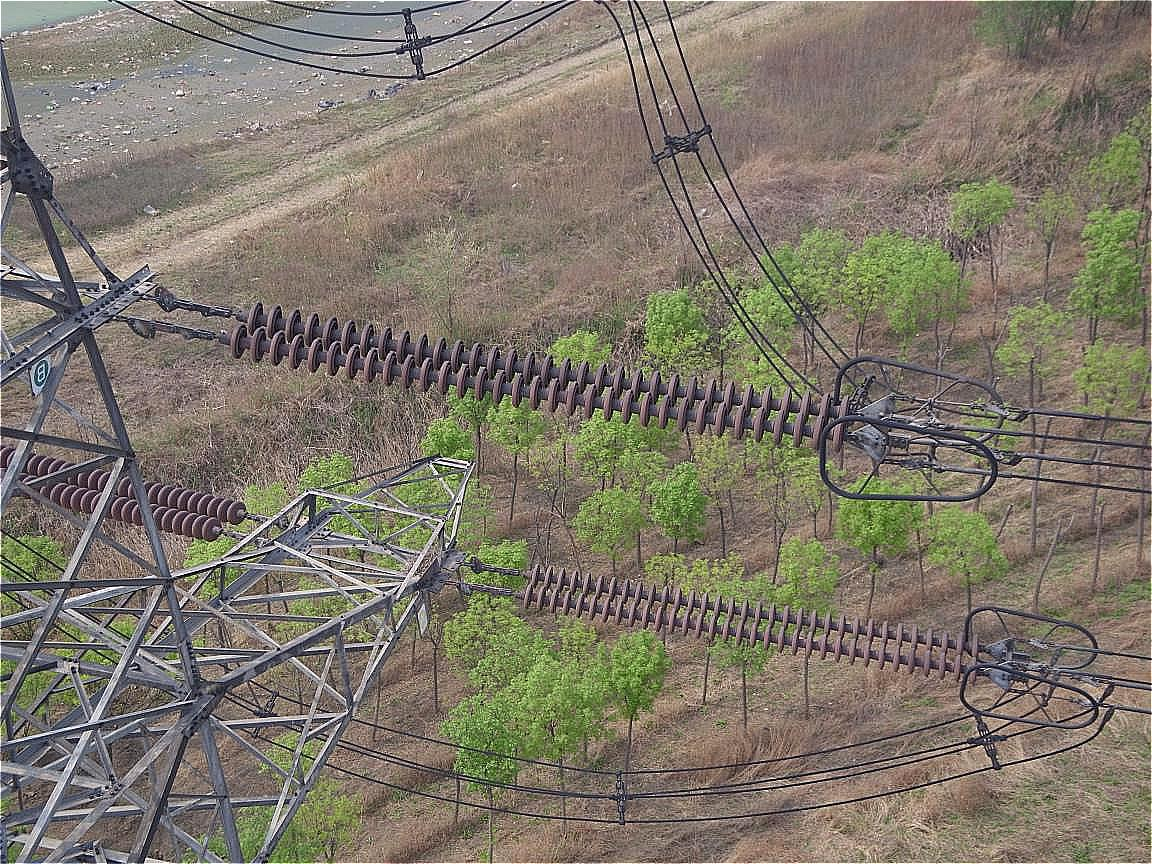insultor1: (174, 289, 904, 464), (498, 557, 1011, 698), (1, 447, 257, 555)
